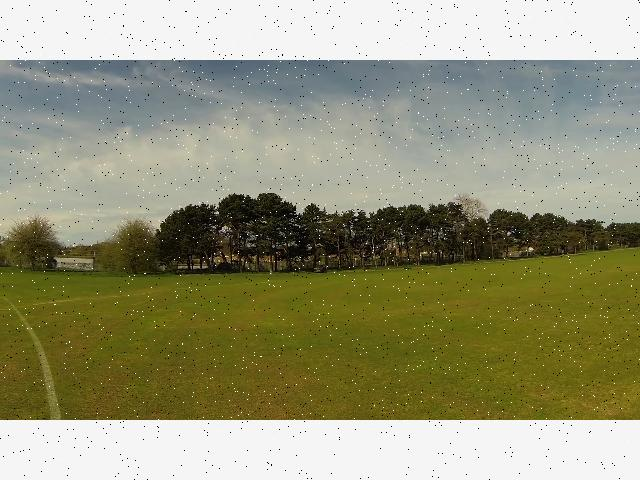Anti-Drone: (308, 136, 324, 152)
